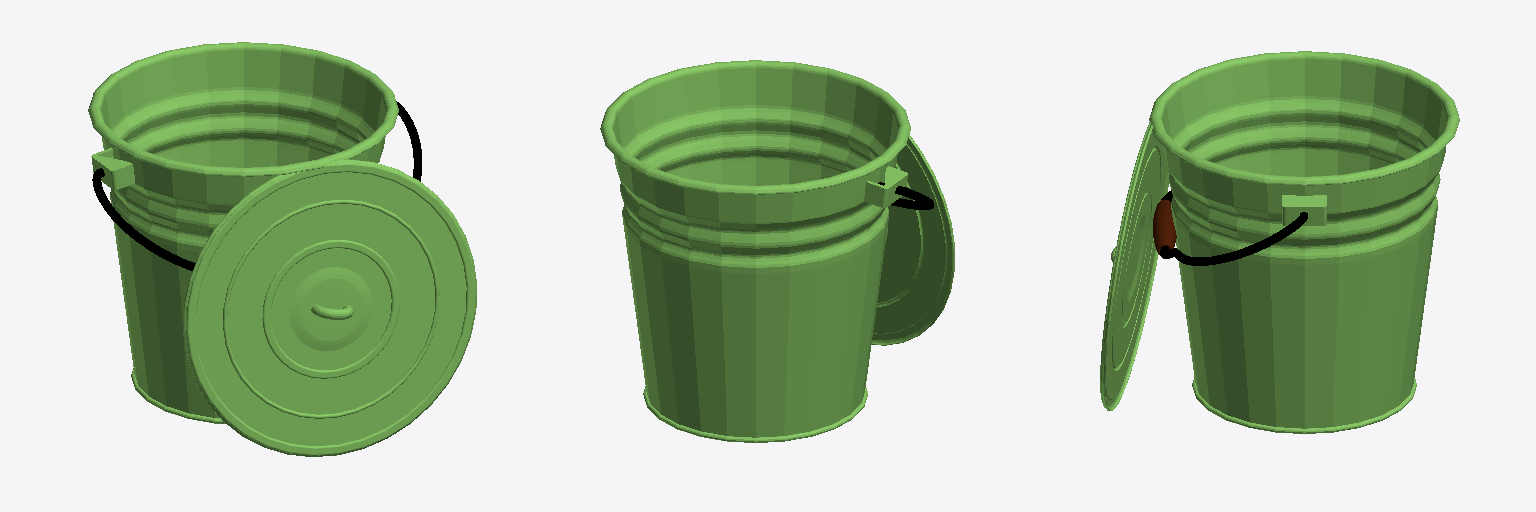
Rendered from Ember.obj.
The picture shows the model from 3 angles: view 1: azimuth 30°, elevation 25°; view 2: azimuth 150°, elevation 25°; view 3: azimuth 270°, elevation 25°; orthographic projection.
Visible parts, largest first — view 1: CAP_Mesh.001, Bucket_2_Mesh, HANDLE_Mesh.002, HandleEars_Mesh.004; view 2: Bucket_2_Mesh, CAP_Mesh.001, HandleEars_Mesh.004, HANDLE_Mesh.002; view 3: Bucket_2_Mesh, CAP_Mesh.001, HANDLE_Mesh.002, HandleEars_Mesh.004, HAND_Mesh.003.
Boxes of the visible parts, box(x1,y1,x2,y2) form: CAP_Mesh.001: box(183, 159, 476, 456); Bucket_2_Mesh: box(88, 42, 398, 423); HANDLE_Mesh.002: box(92, 101, 421, 270); HandleEars_Mesh.004: box(91, 148, 134, 189); Bucket_2_Mesh: box(600, 60, 910, 442); CAP_Mesh.001: box(872, 134, 954, 345); HandleEars_Mesh.004: box(634, 114, 907, 207); HANDLE_Mesh.002: box(878, 182, 933, 209); Bucket_2_Mesh: box(1149, 51, 1459, 433); CAP_Mesh.001: box(1100, 122, 1169, 410); HANDLE_Mesh.002: box(1160, 190, 1307, 265); HandleEars_Mesh.004: box(1282, 195, 1326, 225); HAND_Mesh.003: box(1153, 200, 1176, 255).
Size of the model in its own units: 0.6738 by 0.5791 by 0.6688.